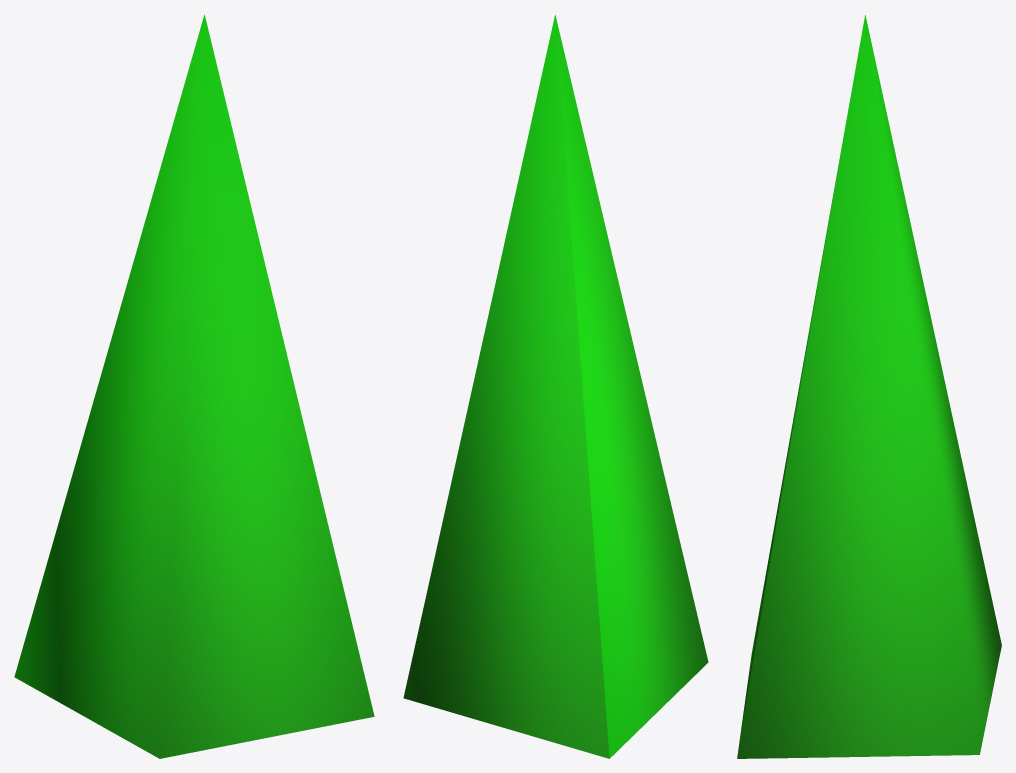
File: tree-simple.glb
3 renders of one model, left to right at view 1: azimuth 30°, elevation 25°; view 2: azimuth 150°, elevation 25°; view 3: azimuth 270°, elevation 25°, orthographic. The views are drawn at different scales.
Parts seen in each view (by area): view 1: Cube.002; view 2: Cube.002; view 3: Cube.002.
Boxes of the visible parts, <box> form: Cube.002: <box>14,14,374,758</box>; Cube.002: <box>403,15,708,758</box>; Cube.002: <box>737,15,1001,758</box>.
Bounding box in the file's own units: 4.39 × 12.45 × 4.32.
